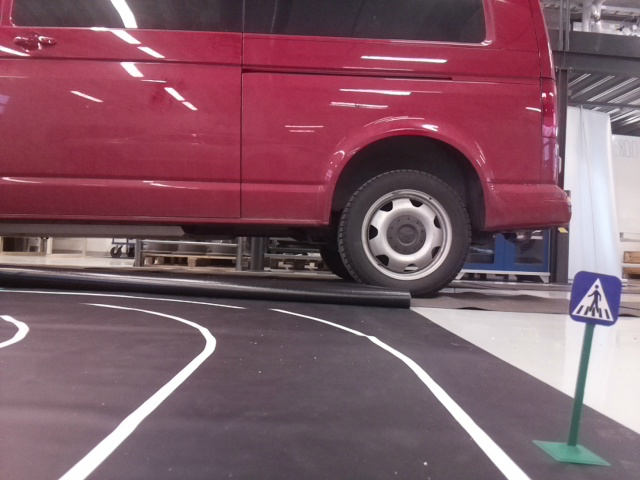Crosswalk: (573, 270, 618, 323)
